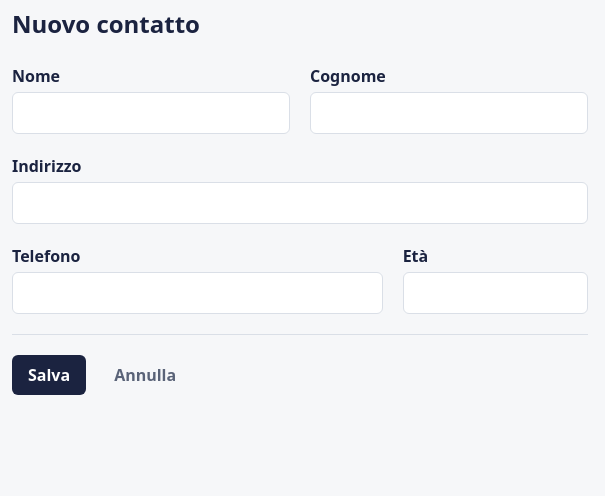
Test case: EditorContatto › mostra gli errori di validazione del server accanto ai campi
Click the button "Salva" at (49, 375), box [12,355,86,395]
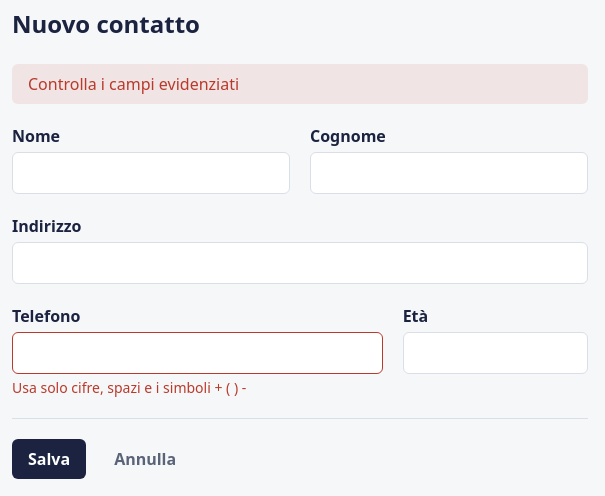
Expected: the message reads "Controlla i campi evidenziati", [28,73,239,95]
